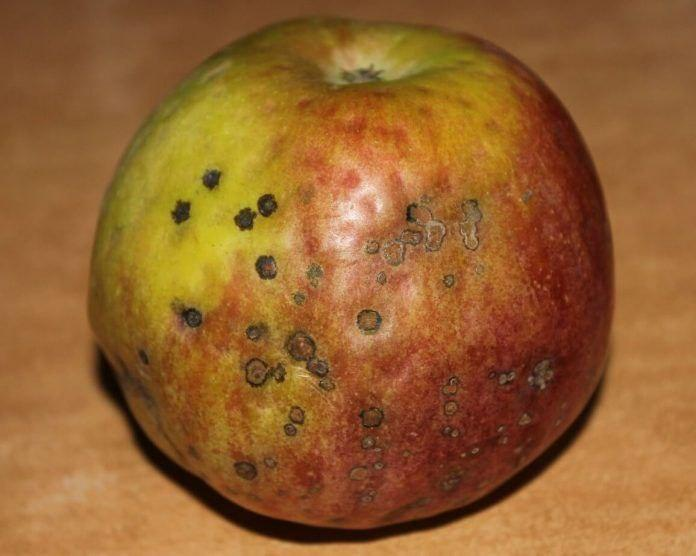Apple: (87, 16, 614, 534)
